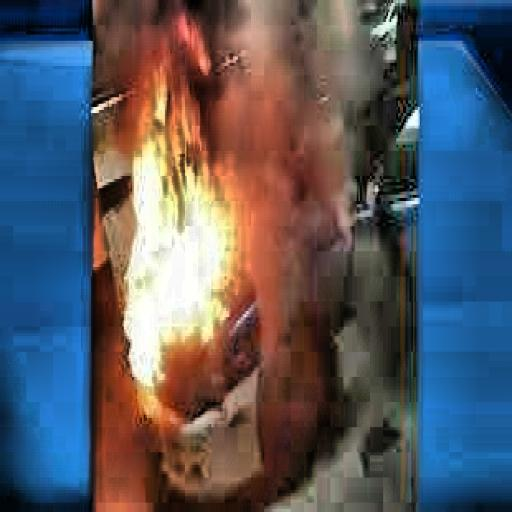fire: (119, 104, 261, 427)
